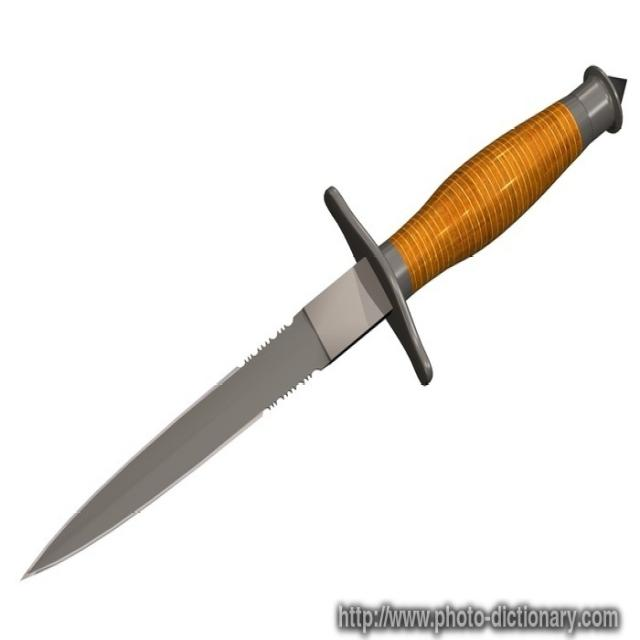Gun: (23, 60, 629, 590)
